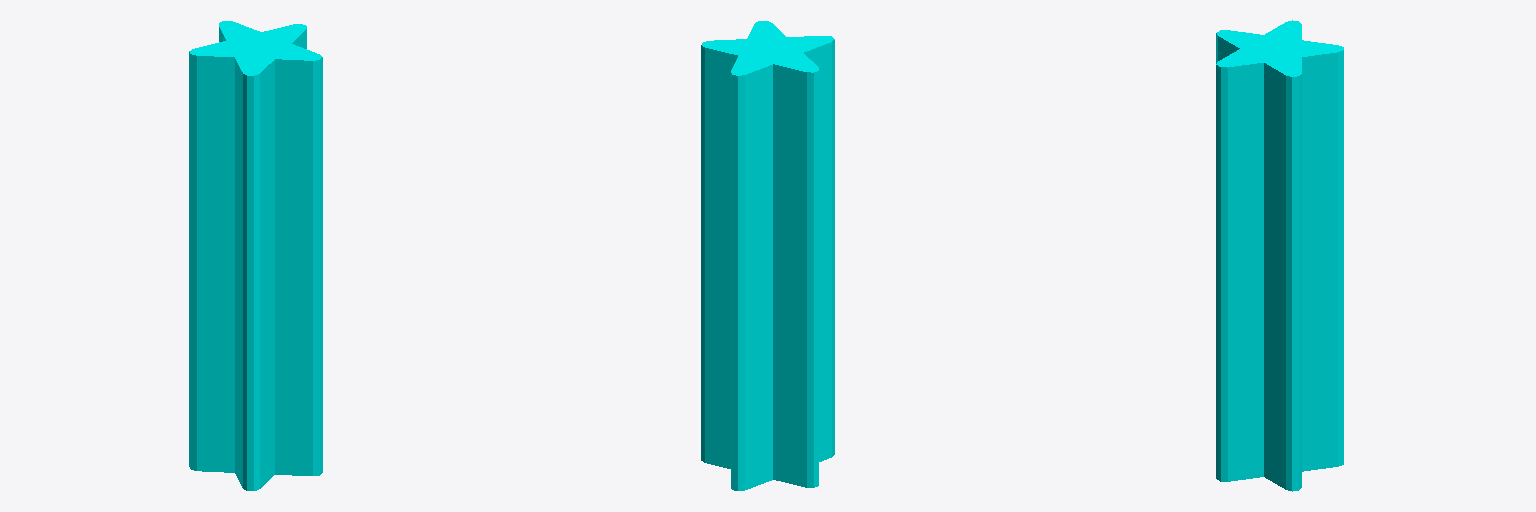
URDF robot description (Medium_Long_Star_Purple):
<?xml version="1.0"?>
<robot name="Medium_Long_Star_Purple">
    <link name="Medium_Long_Star_Purple">
        <visual>
            <geometry>
                <mesh filename="../mesh/factory_insertion/Medium_Long_Star_Purple.obj" scale="0.001 0.001 0.001"/>
            </geometry>
            <material name="Purple">
              <color rgba="0 1.0 1.0 1.0"/>
            </material>
        </visual>
        <collision>
            <geometry>
                <mesh filename="../mesh/factory_insertion/Medium_Long_Star_Purple.obj" scale="0.001 0.001 0.001"/>
            </geometry>
            <sdf resolution="512"/>
        </collision>
    </link>
</robot>

--- Facts derived from the render (not from the file) ---
3 views of the same robot in one strip: view 1: azimuth 30°, elevation 25°; view 2: azimuth 150°, elevation 25°; view 3: azimuth 270°, elevation 25° (orthographic).
Model Medium_Long_Star_Purple with 1 links and 0 joints (none), rooted at Medium_Long_Star_Purple, posed every joint at zero.
Links seen in each view (by area): view 1: Medium_Long_Star_Purple; view 2: Medium_Long_Star_Purple; view 3: Medium_Long_Star_Purple.
Boxes of the visible links, x1,y1,x2,y2 form: Medium_Long_Star_Purple: [189, 21, 322, 490]; Medium_Long_Star_Purple: [701, 21, 834, 490]; Medium_Long_Star_Purple: [1216, 20, 1343, 491].
Size in the robot's own frame: 0.0439 by 0.0418 by 0.15 metres.
1 mesh visuals loaded from 1 distinct referenced files (1 OBJ).
